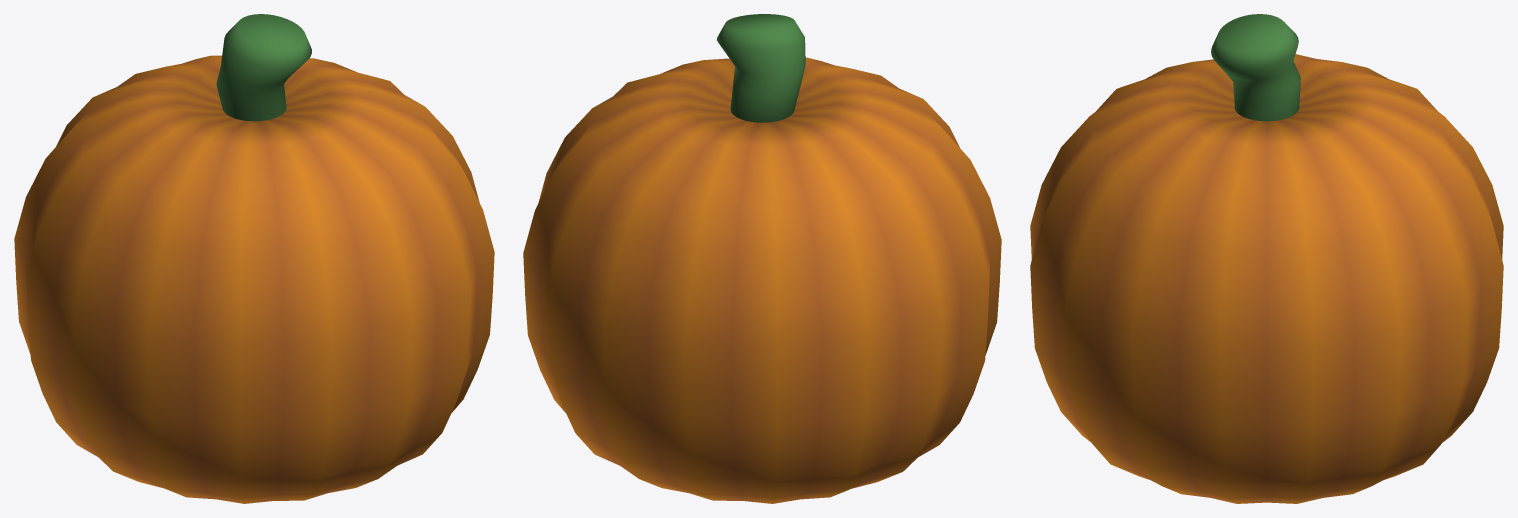
The model's file is Glb_Player_Pumpkin.glb.
The picture shows the model from 3 angles, left to right: view 1: azimuth 30°, elevation 25°; view 2: azimuth 150°, elevation 25°; view 3: azimuth 270°, elevation 25°; orthographic projection.
Visible parts, largest first — view 1: Pumpkin; view 2: Pumpkin; view 3: Pumpkin.
Boxes of the visible parts, bbox=[...] form: Pumpkin: bbox=[14, 14, 494, 503]; Pumpkin: bbox=[523, 14, 1001, 503]; Pumpkin: bbox=[1030, 14, 1503, 503].
Size of the model in its own units: 0.5001 by 0.5 by 0.5001.
